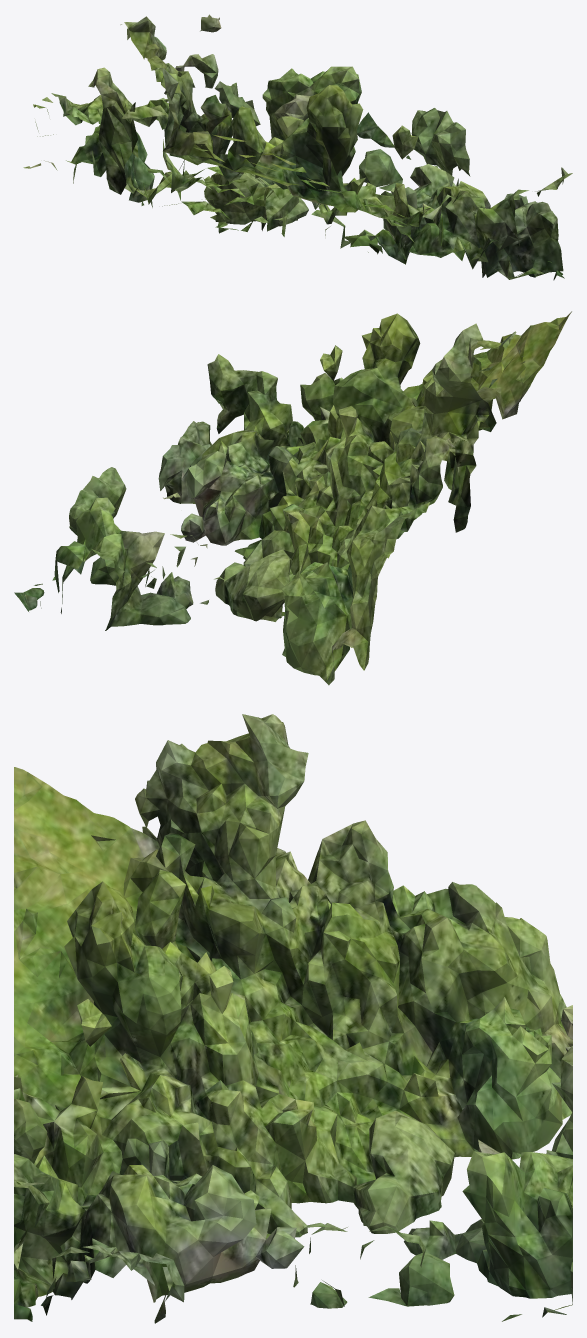
3 views of the same model, one above another, from view 1: azimuth 30°, elevation 25°; view 2: azimuth 150°, elevation 25°; view 3: azimuth 270°, elevation 25° (orthographic). The views are drawn at different scales.
Bounding box in the file's own units: 52.22 × 39.42 × 52.22.
6 materials, 6 textured.
